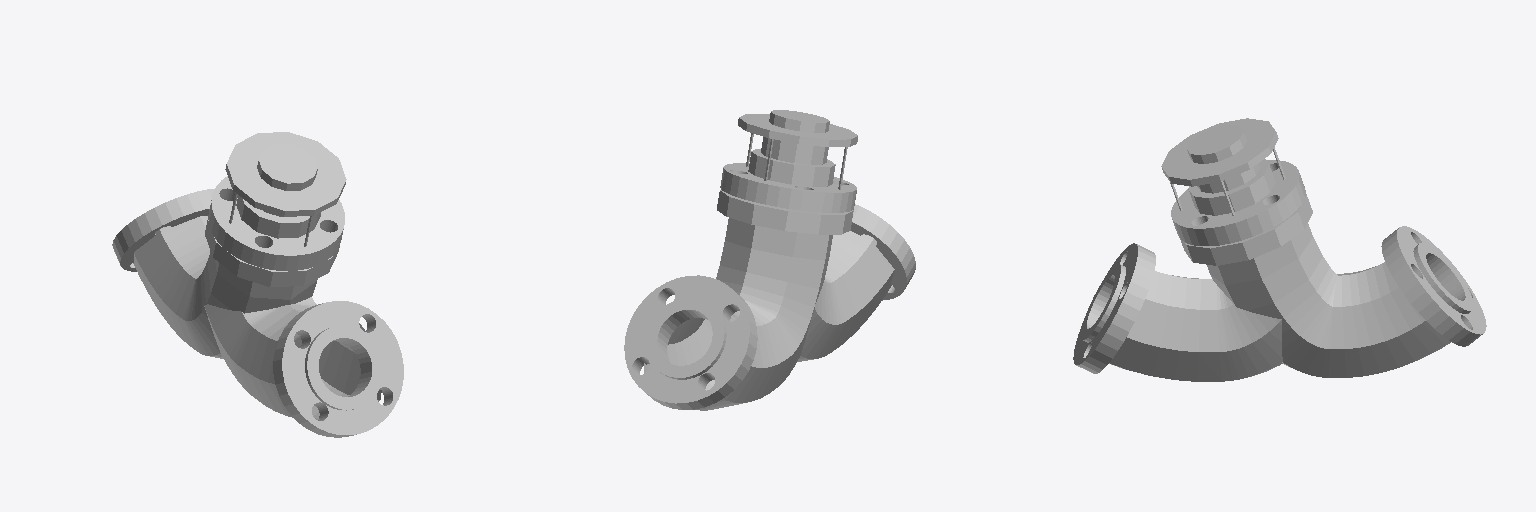
The model's file is geishuibeng.obj.
The picture shows the model from 3 angles: view 1: azimuth 30°, elevation 25°; view 2: azimuth 150°, elevation 25°; view 3: azimuth 270°, elevation 25°; orthographic projection.
Parts seen in each view (by area): view 1: __, __.1, __.3; view 2: __, __.1, __.3, __.2; view 3: __, __.1, __.3, __.2.
Part boxes in pixels (left/top/right/bottom): __: left=112, top=144, right=403, bottom=437; __.1: left=204, top=195, right=392, bottom=419; __.3: left=130, top=132, right=346, bottom=348; __: left=624, top=110, right=915, bottom=410; __.1: left=645, top=139, right=894, bottom=379; __.3: left=698, top=114, right=876, bottom=390; __.2: left=722, top=137, right=894, bottom=321; __: left=1073, top=125, right=1486, bottom=377; __.1: left=1080, top=147, right=1473, bottom=381; __.3: left=1120, top=118, right=1472, bottom=297; __.2: left=1170, top=163, right=1421, bottom=243.
Bounding box in the file's own units: 38.71 × 78.46 × 118.